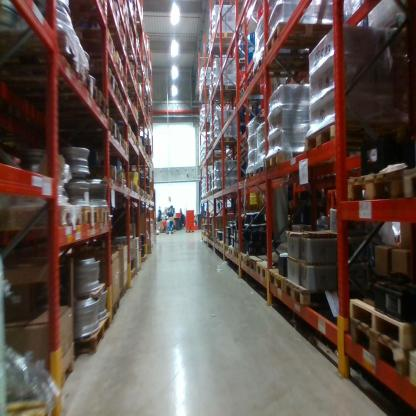pallet: (307, 118, 413, 163), (349, 291, 415, 356), (1, 28, 91, 74), (349, 319, 406, 387), (266, 19, 344, 61), (283, 272, 360, 310), (3, 201, 78, 236), (20, 69, 100, 101), (30, 88, 112, 119), (344, 166, 402, 207), (67, 311, 108, 360), (81, 56, 119, 94), (90, 6, 128, 42), (265, 151, 320, 175), (70, 30, 118, 57), (269, 265, 303, 302), (83, 48, 122, 76), (252, 60, 312, 78), (87, 156, 120, 184), (258, 254, 285, 286), (208, 27, 243, 44), (99, 117, 120, 142), (115, 127, 132, 156), (402, 163, 415, 199), (211, 134, 242, 149), (246, 250, 265, 272), (115, 89, 128, 119), (211, 84, 241, 97), (84, 203, 101, 223), (109, 292, 120, 320), (407, 353, 415, 390), (98, 205, 112, 224), (117, 168, 128, 187), (244, 169, 256, 184), (240, 249, 251, 265), (131, 133, 140, 152), (253, 160, 264, 175), (233, 58, 250, 66), (233, 246, 242, 261), (227, 246, 235, 261), (126, 178, 134, 193), (122, 280, 128, 299), (134, 184, 141, 198), (237, 139, 249, 147), (185, 228, 195, 236), (222, 243, 229, 251), (163, 231, 173, 236)
